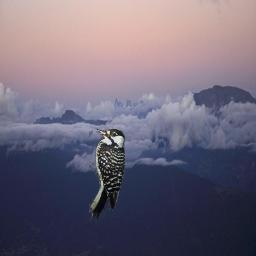Woodpecker: (89, 127, 125, 223)
